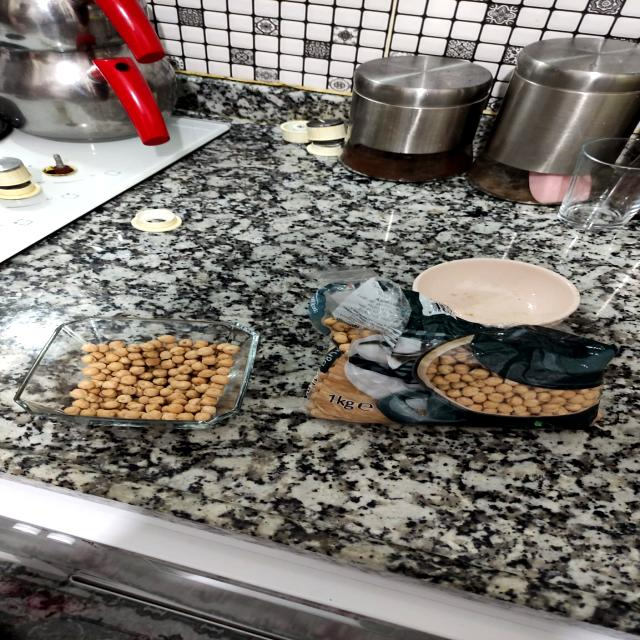chickpeas: (318, 301, 624, 432), (19, 324, 278, 423)
